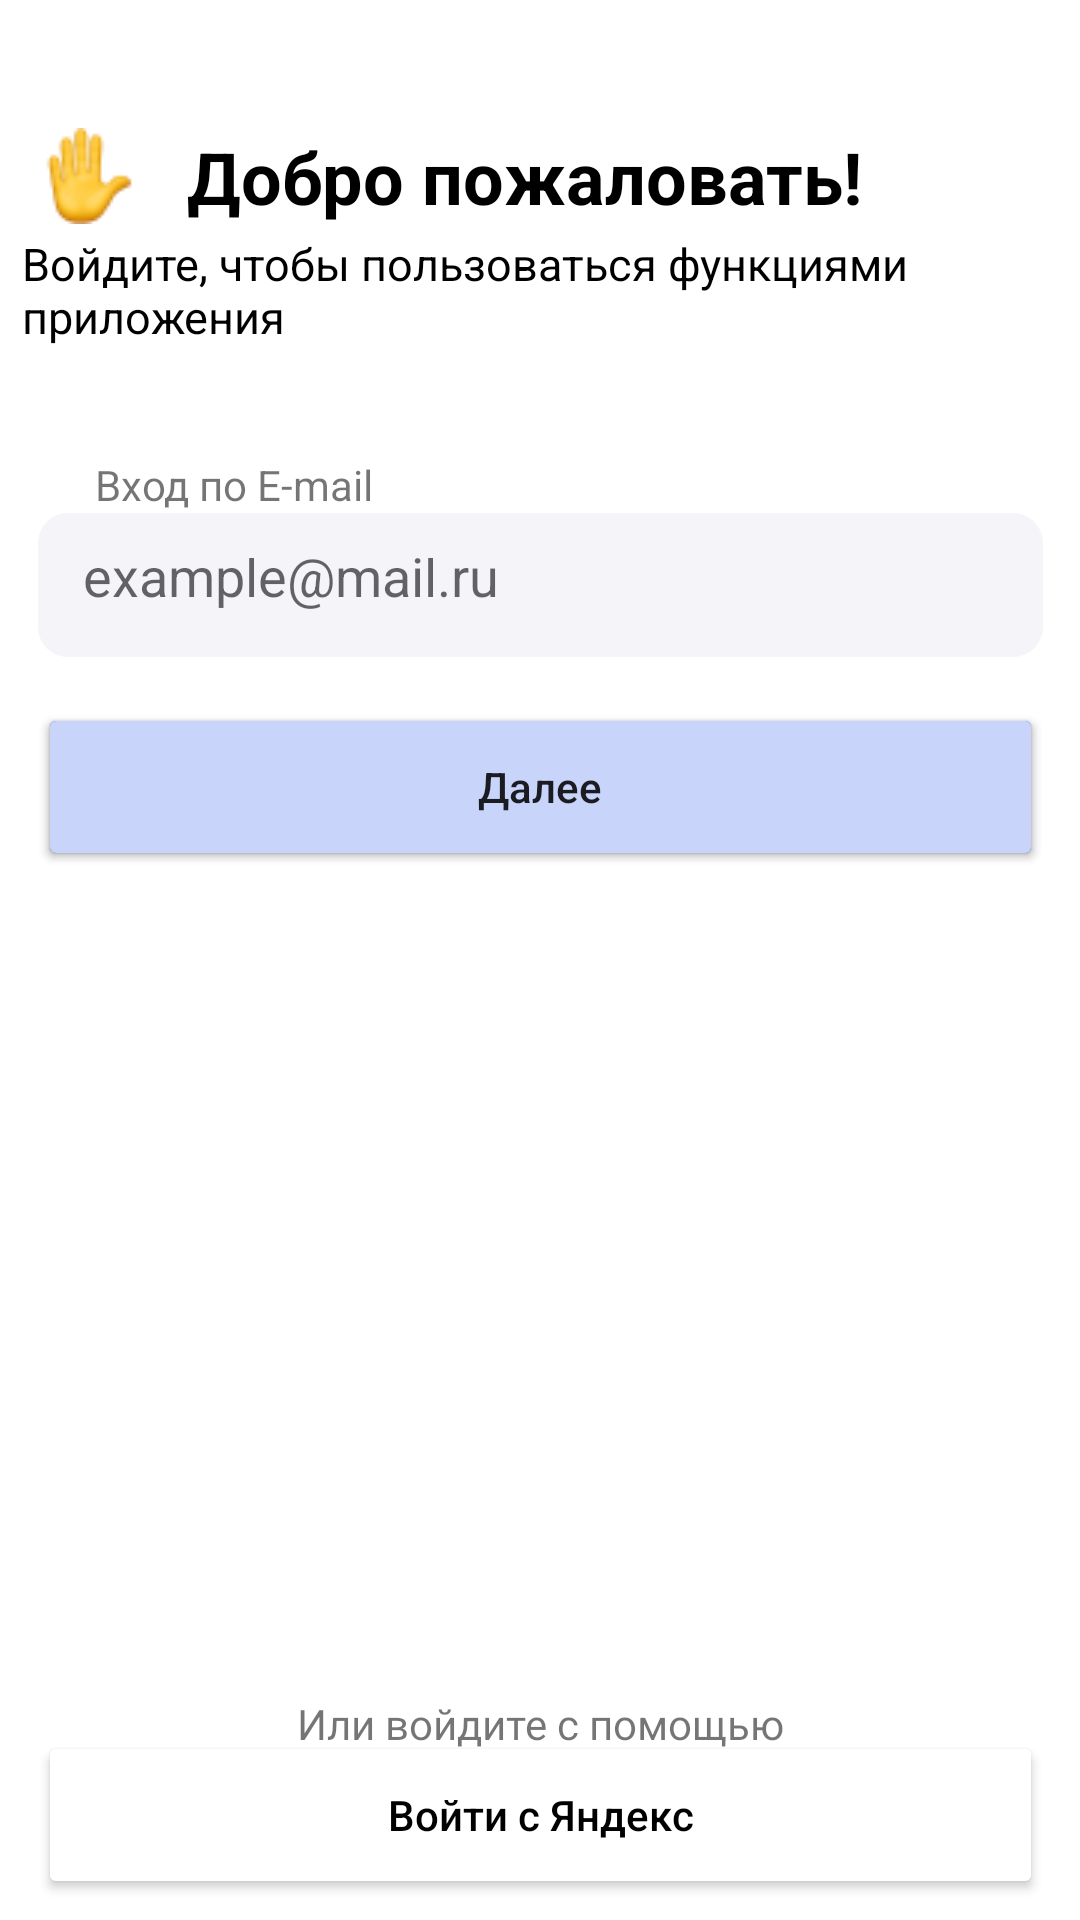

Icon click points for this 1080×1920 phone screenshot, format (x,y):
hello: (89,176)
